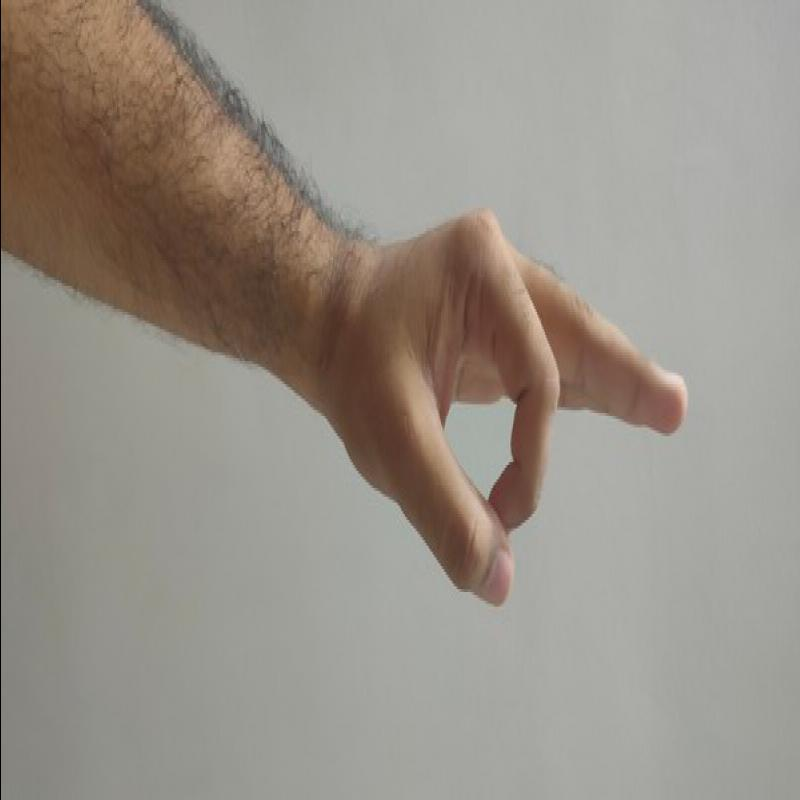Mudraakhyam: (328, 199, 702, 611)
